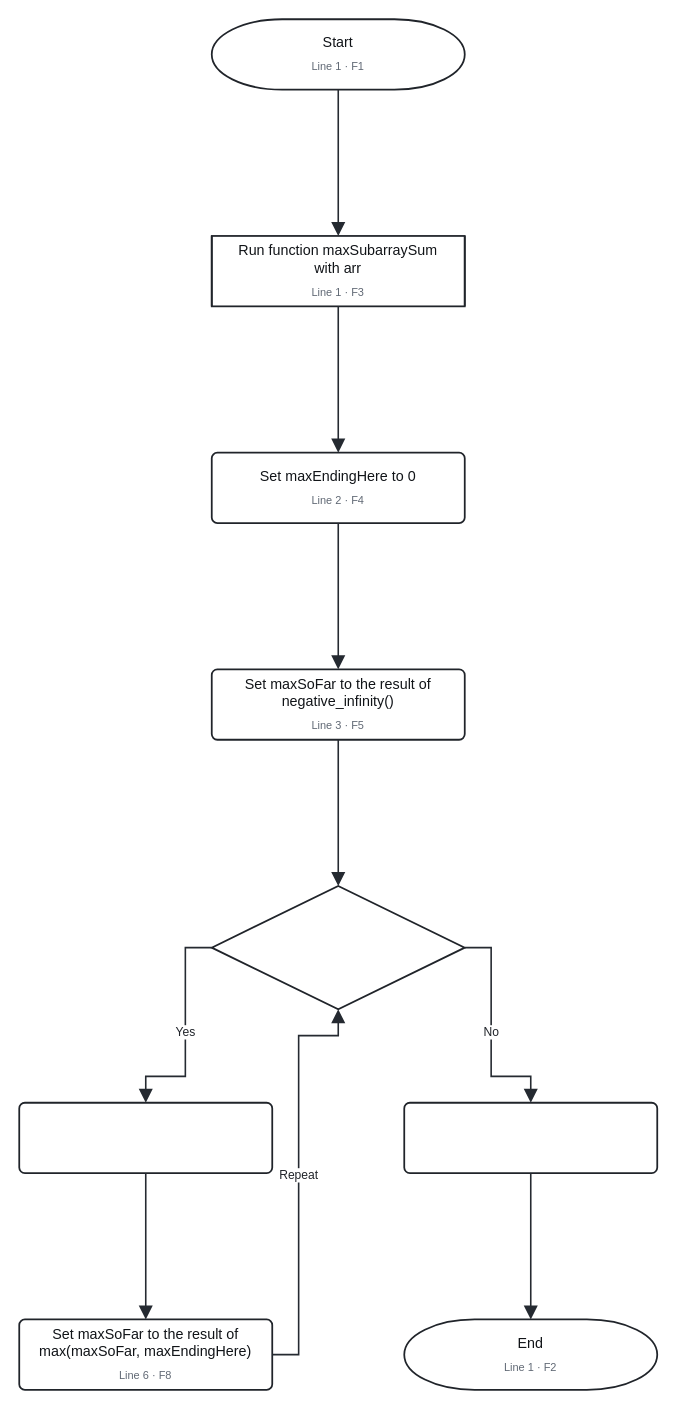
Image size: 678x1410. Some labels were removed from this diagram. The box of each missing label's shape, as (x1, y1, x2, y2) in pixels:
For each num in arr Line 4 · F6: (210, 885, 465, 1010)
Return maxSoFar Line 8 · F9: (403, 1101, 658, 1173)
Set maxEndingHere to the result of max(num, maxEndingHere plus num) Line 5 · F7: (18, 1101, 273, 1173)
